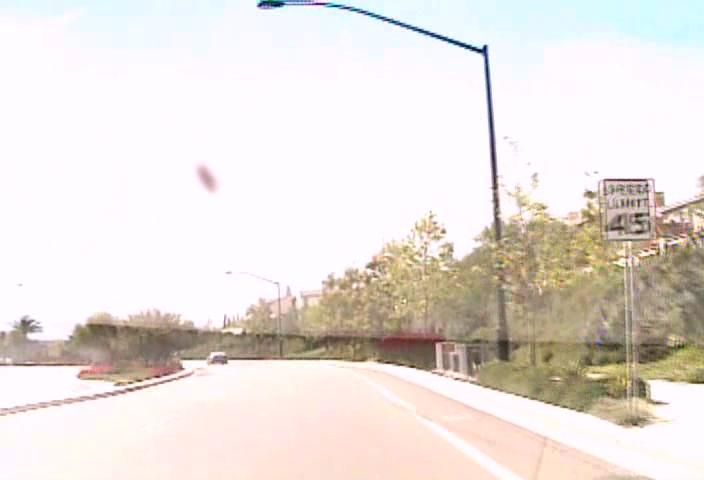speedLimit45: (602, 177, 655, 241)
